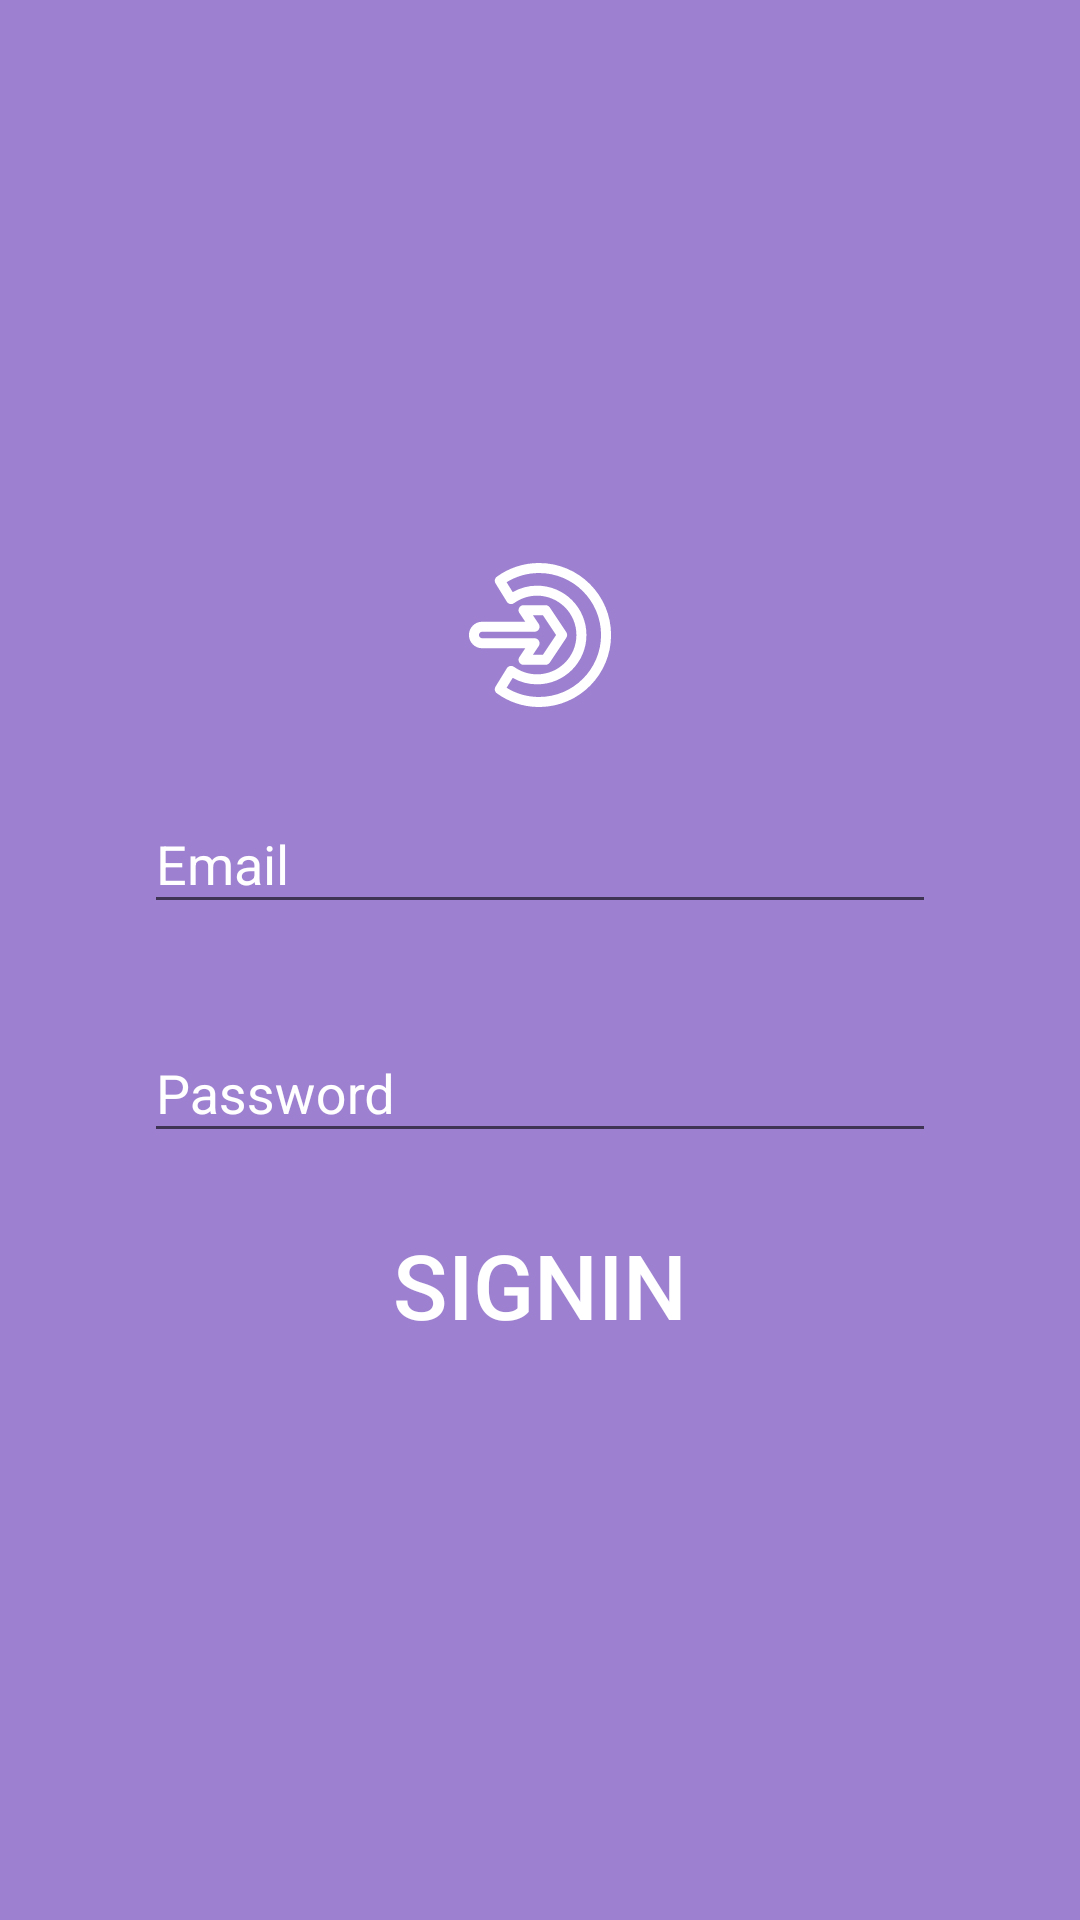

Screen size 1080 x 1920. Icon name, then its box in pixels as (x1, y1, x2, y2):
login: (469, 563, 611, 707)
